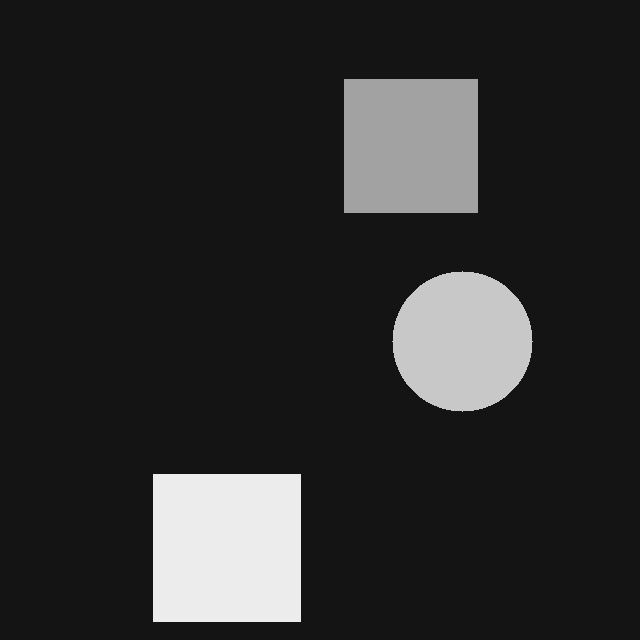circle: (392, 271, 532, 411)
square: (153, 474, 300, 621), (344, 79, 477, 212)
